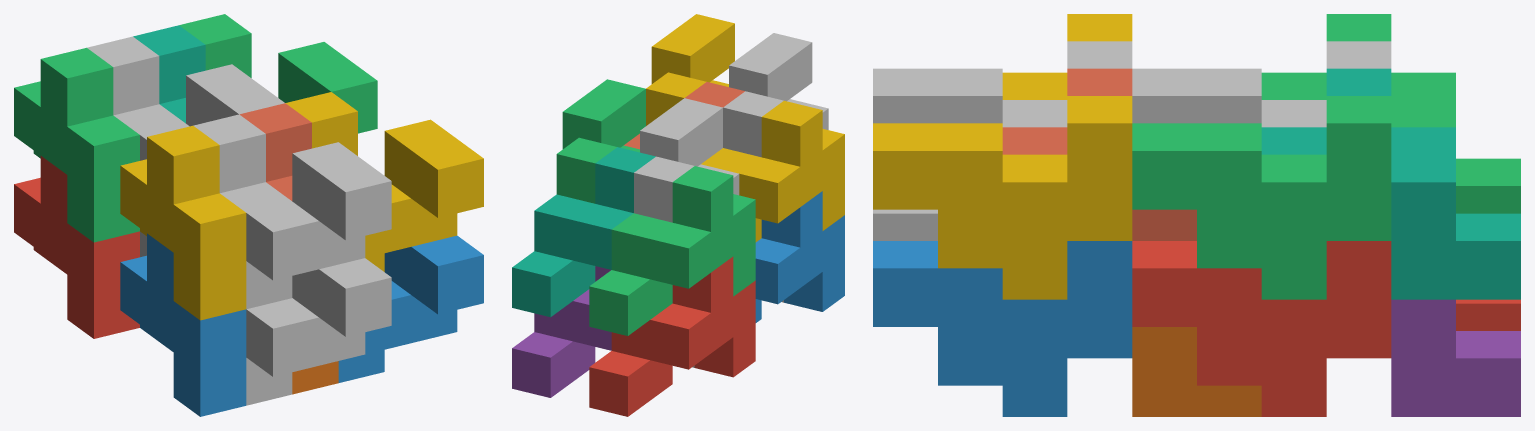
File: tiling.obj
3 renders of one model, left to right at view 1: azimuth 30°, elevation 25°; view 2: azimuth 150°, elevation 25°; view 3: azimuth 270°, elevation 25°, orthographic. The views are drawn at different scales.
Visible parts, largest first — view 1: copy_2_domain_4, copy_1_domain_4, copy_1_domain_3, copy_2_domain_2, copy_2_domain_8, copy_1_domain_2, copy_1_domain_1, copy_2_domain_6, copy_2_domain_3, copy_2_domain_7, copy_1_domain_7, copy_1_domain_8 (+1 smaller); view 2: copy_1_domain_3, copy_1_domain_1, copy_1_domain_7, copy_1_domain_4, copy_1_domain_2, copy_2_domain_4, copy_2_domain_3, copy_2_domain_7, copy_1_domain_5, copy_2_domain_8, copy_1_domain_8; view 3: copy_2_domain_7, copy_2_domain_8, copy_2_domain_5, copy_2_domain_6, copy_1_domain_7, copy_1_domain_5, copy_1_domain_3, copy_2_domain_3, copy_2_domain_4, copy_1_domain_6, copy_1_domain_8, copy_1_domain_4 (+2 smaller).
Boxes of the visible parts, x1,y1,x2,y2 form: copy_2_domain_4: (193,114,391,309); copy_1_domain_4: (120,125,246,320); copy_1_domain_3: (14,47,139,242); copy_2_domain_2: (246,258,391,405); copy_2_domain_8: (285,92,483,271); copy_1_domain_2: (120,233,246,416); copy_1_domain_1: (14,156,139,338); copy_2_domain_6: (338,235,483,382); copy_2_domain_3: (87,36,284,160); copy_2_domain_7: (179,14,377,133); copy_1_domain_7: (133,25,205,123); copy_1_domain_8: (239,103,311,200); copy_1_domain_3: (589,166,755,335); copy_1_domain_1: (589,256,755,416); copy_1_domain_7: (512,147,655,317); copy_1_domain_4: (701,100,844,242); copy_1_domain_2: (755,191,844,322); copy_2_domain_4: (723,33,828,157); copy_2_domain_3: (634,98,739,222); copy_2_domain_7: (556,79,645,203); copy_1_domain_5: (512,266,611,397); copy_2_domain_8: (646,14,734,125); copy_1_domain_8: (624,82,744,149); copy_2_domain_7: (1132,96,1391,299); copy_2_domain_8: (873,96,1132,299); copy_2_domain_5: (1132,241,1391,416); copy_2_domain_6: (873,241,1132,416); copy_1_domain_7: (1261,68,1520,299); copy_1_domain_5: (1391,299,1520,416); copy_1_domain_3: (1261,14,1520,213); copy_2_domain_3: (1132,41,1391,127); copy_2_domain_4: (873,41,1132,127); copy_1_domain_6: (1132,327,1261,416); copy_1_domain_8: (1002,68,1196,240); copy_1_domain_4: (1002,14,1132,99).
Bounding box in the file's own units: 5 × 5 × 10.
